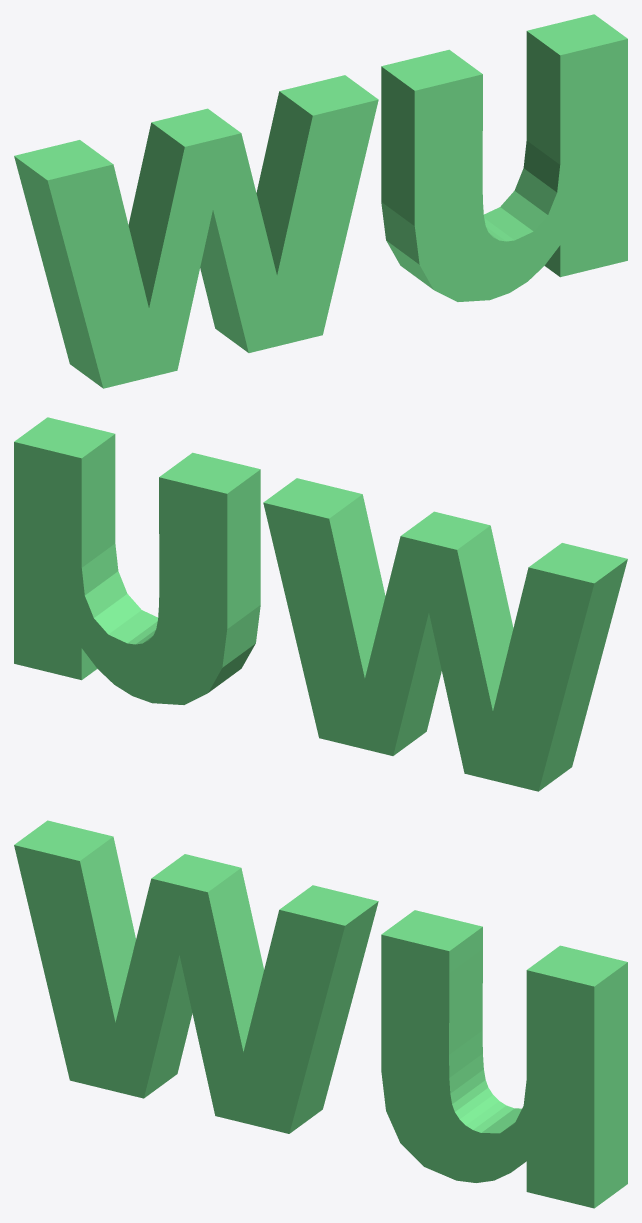
The model's file is suku_kecil_wu.glb.
3 views of the same model, one above another, from view 1: azimuth 30°, elevation 25°; view 2: azimuth 150°, elevation 25°; view 3: azimuth 330°, elevation 25° (orthographic).
Parts seen in each view (by area): view 1: geometry_0; view 2: geometry_0; view 3: geometry_0.
Part boxes in pixels (<box>): geometry_0: <box>14,14,627,388</box>; geometry_0: <box>14,417,627,791</box>; geometry_0: <box>14,820,627,1208</box>.
Bounding box in the file's own units: 14.97 × 5.61 × 1.5.
